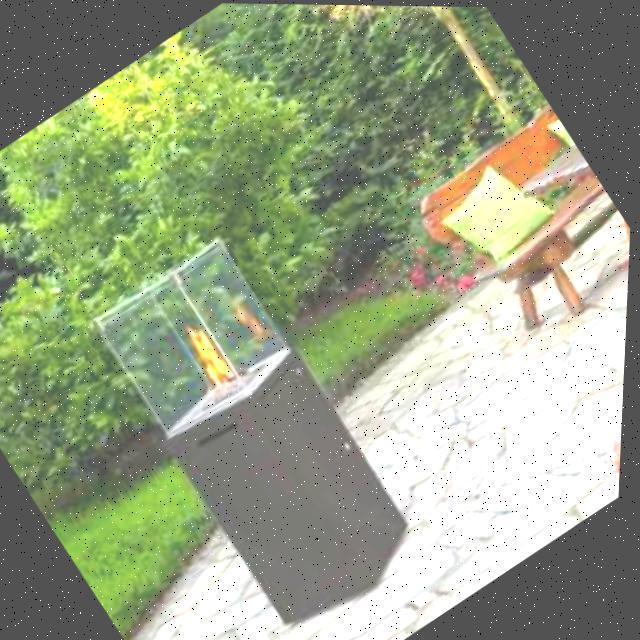Fire: (166, 305, 262, 411)
